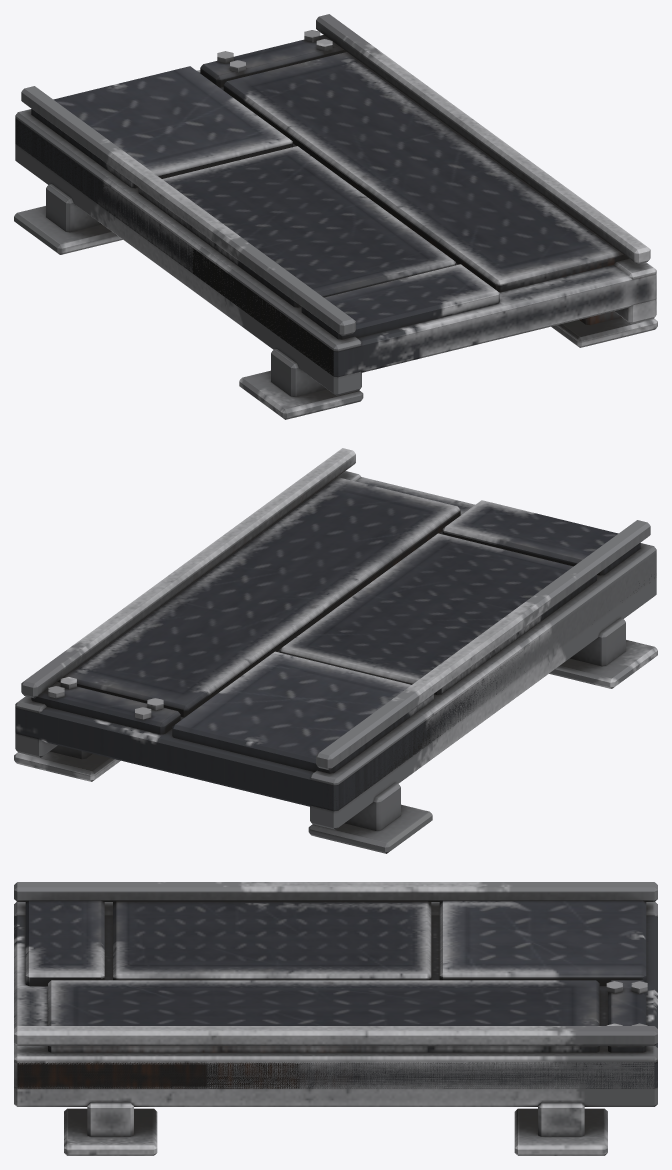
File: nodexeus-set-walk.glb
3 views of the same model, one above another, from view 1: azimuth 30°, elevation 25°; view 2: azimuth 150°, elevation 25°; view 3: azimuth 270°, elevation 25° (orthographic).
Visible parts, largest first — view 1: set-walk; view 2: set-walk; view 3: set-walk.
Part boxes in pixels (x1,y1,x2,y2): set-walk: [14, 14, 657, 419]; set-walk: [14, 448, 657, 853]; set-walk: [14, 882, 657, 1155].
Bounding box in the file's own units: 1.86 × 0.515 × 2.76.
1 material, 1 textured.
